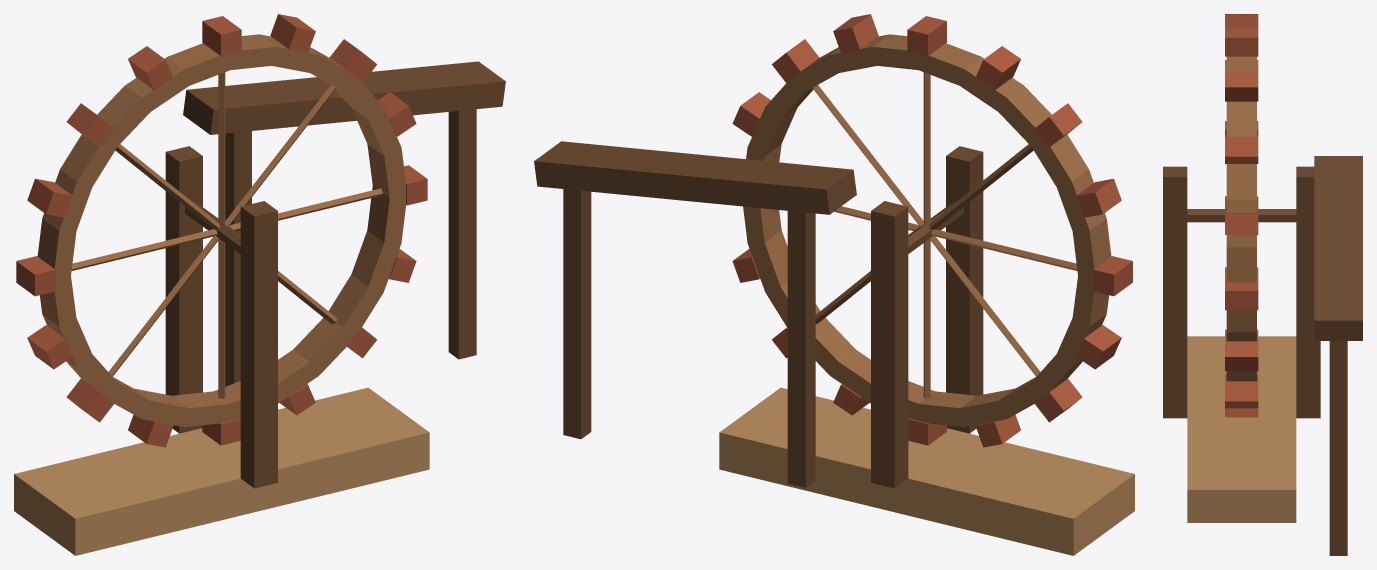
File: vattenhjul.glb
3 views of the same model, side by side, from view 1: azimuth 30°, elevation 25°; view 2: azimuth 150°, elevation 25°; view 3: azimuth 270°, elevation 25° (orthographic). The views are drawn at different scales.
Visible parts, largest first — view 1: vattenhjul; view 2: vattenhjul; view 3: vattenhjul.
Part boxes in pixels (x1,y1,x2,y2): vattenhjul: [14, 14, 505, 555]; vattenhjul: [534, 14, 1134, 555]; vattenhjul: [1163, 14, 1362, 555].
Size of the model in its own units: 8.83 by 7.53 by 3.3.
